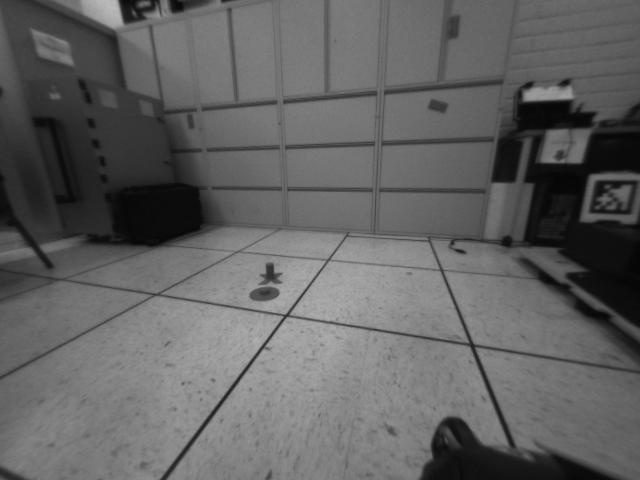X: (259, 261, 282, 285)
